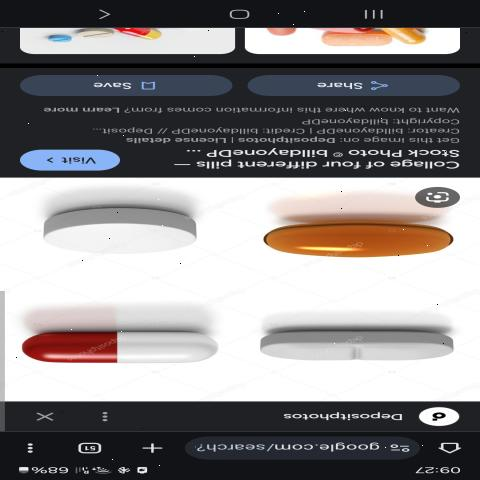Pill: (237, 309, 460, 374), (229, 209, 464, 270), (34, 196, 202, 268), (18, 317, 216, 370)
